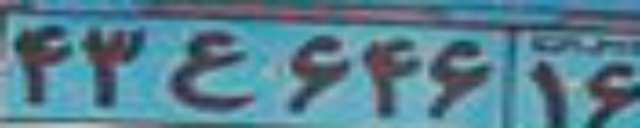1: (527, 57, 573, 127)
3: (83, 25, 147, 107)
4: (12, 24, 74, 106), (365, 35, 421, 118)
6: (282, 32, 352, 115), (425, 37, 488, 119), (583, 59, 635, 126)
ain: (166, 27, 257, 112)
